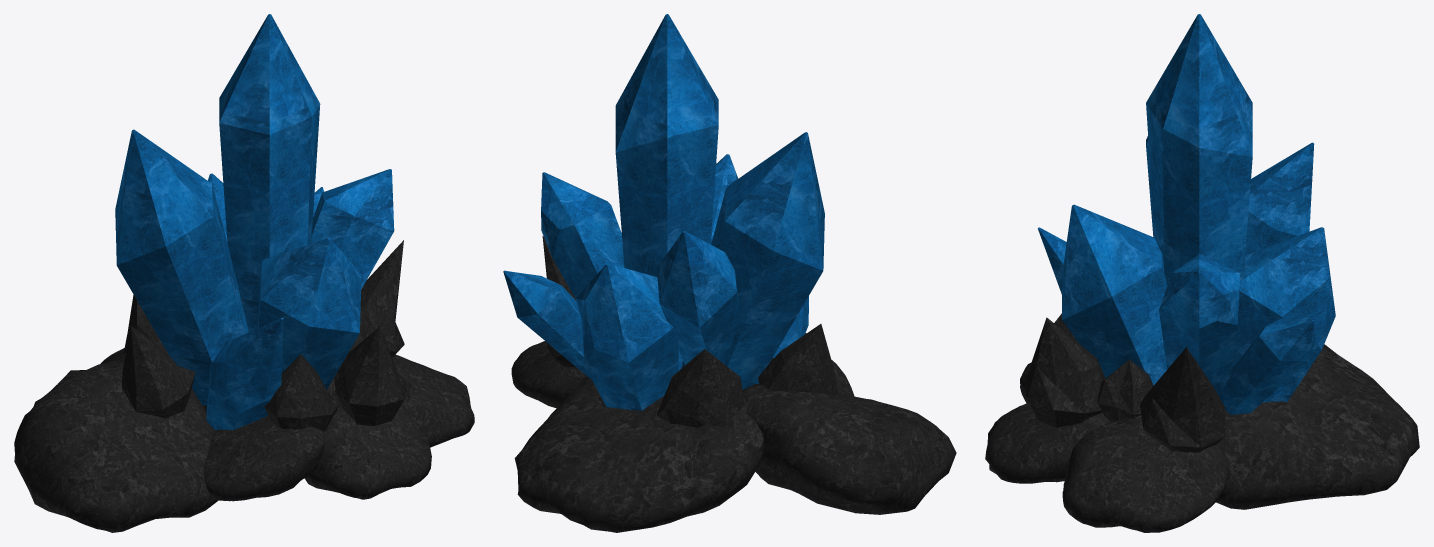
Rendered from mine_High.glb.
3 views of the same model, side by side, from view 1: azimuth 30°, elevation 25°; view 2: azimuth 150°, elevation 25°; view 3: azimuth 270°, elevation 25° (orthographic). The views are drawn at different scales.
Parts seen in each view (by area): view 1: Crystal; view 2: Crystal; view 3: Crystal.
Boxes of the visible parts, bbox=[...] form: Crystal: bbox=[14, 14, 474, 532]; Crystal: bbox=[503, 14, 956, 532]; Crystal: bbox=[985, 14, 1419, 532].
Bounding box in the file's own units: 116 × 118 × 99.58.
Materials: 2 (2 with a texture image).
